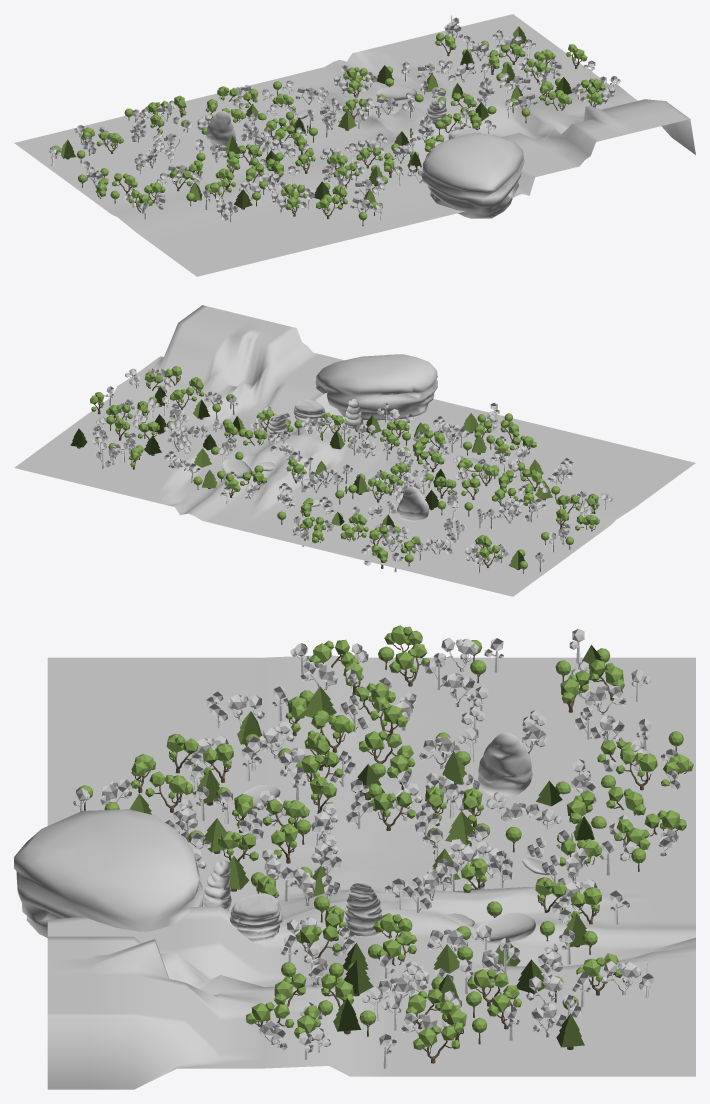
The model's file is Sence_GGJ.fbx.
3 renders of one model, top to bottom at view 1: azimuth 30°, elevation 25°; view 2: azimuth 150°, elevation 25°; view 3: azimuth 270°, elevation 25°, orthographic. The views are drawn at different scales.
Visible parts, largest first — view 1: Plane001; view 2: Plane001; view 3: Plane001.
Part boxes in pixels (x1,y1,x2,y2): Plane001: (14,14,695,276); Plane001: (14,305,695,596); Plane001: (14,625,695,1089).
Bounding box in the file's own units: 18817 × 2108 × 12551.
